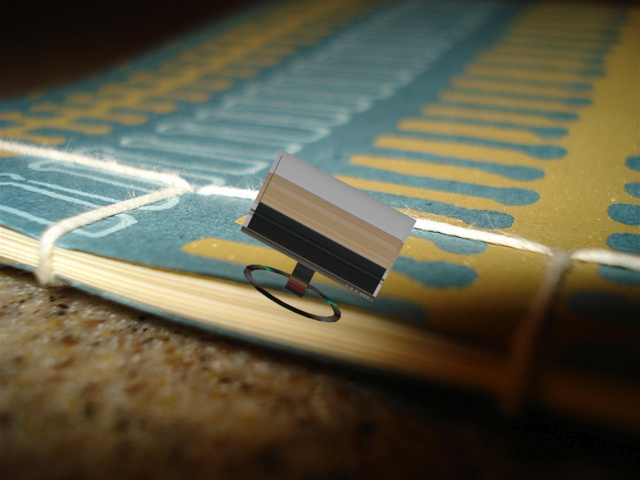monitor: (240, 145, 424, 336)
